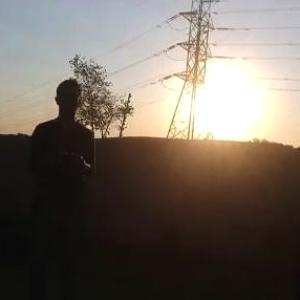follow: (23, 71, 103, 299)
